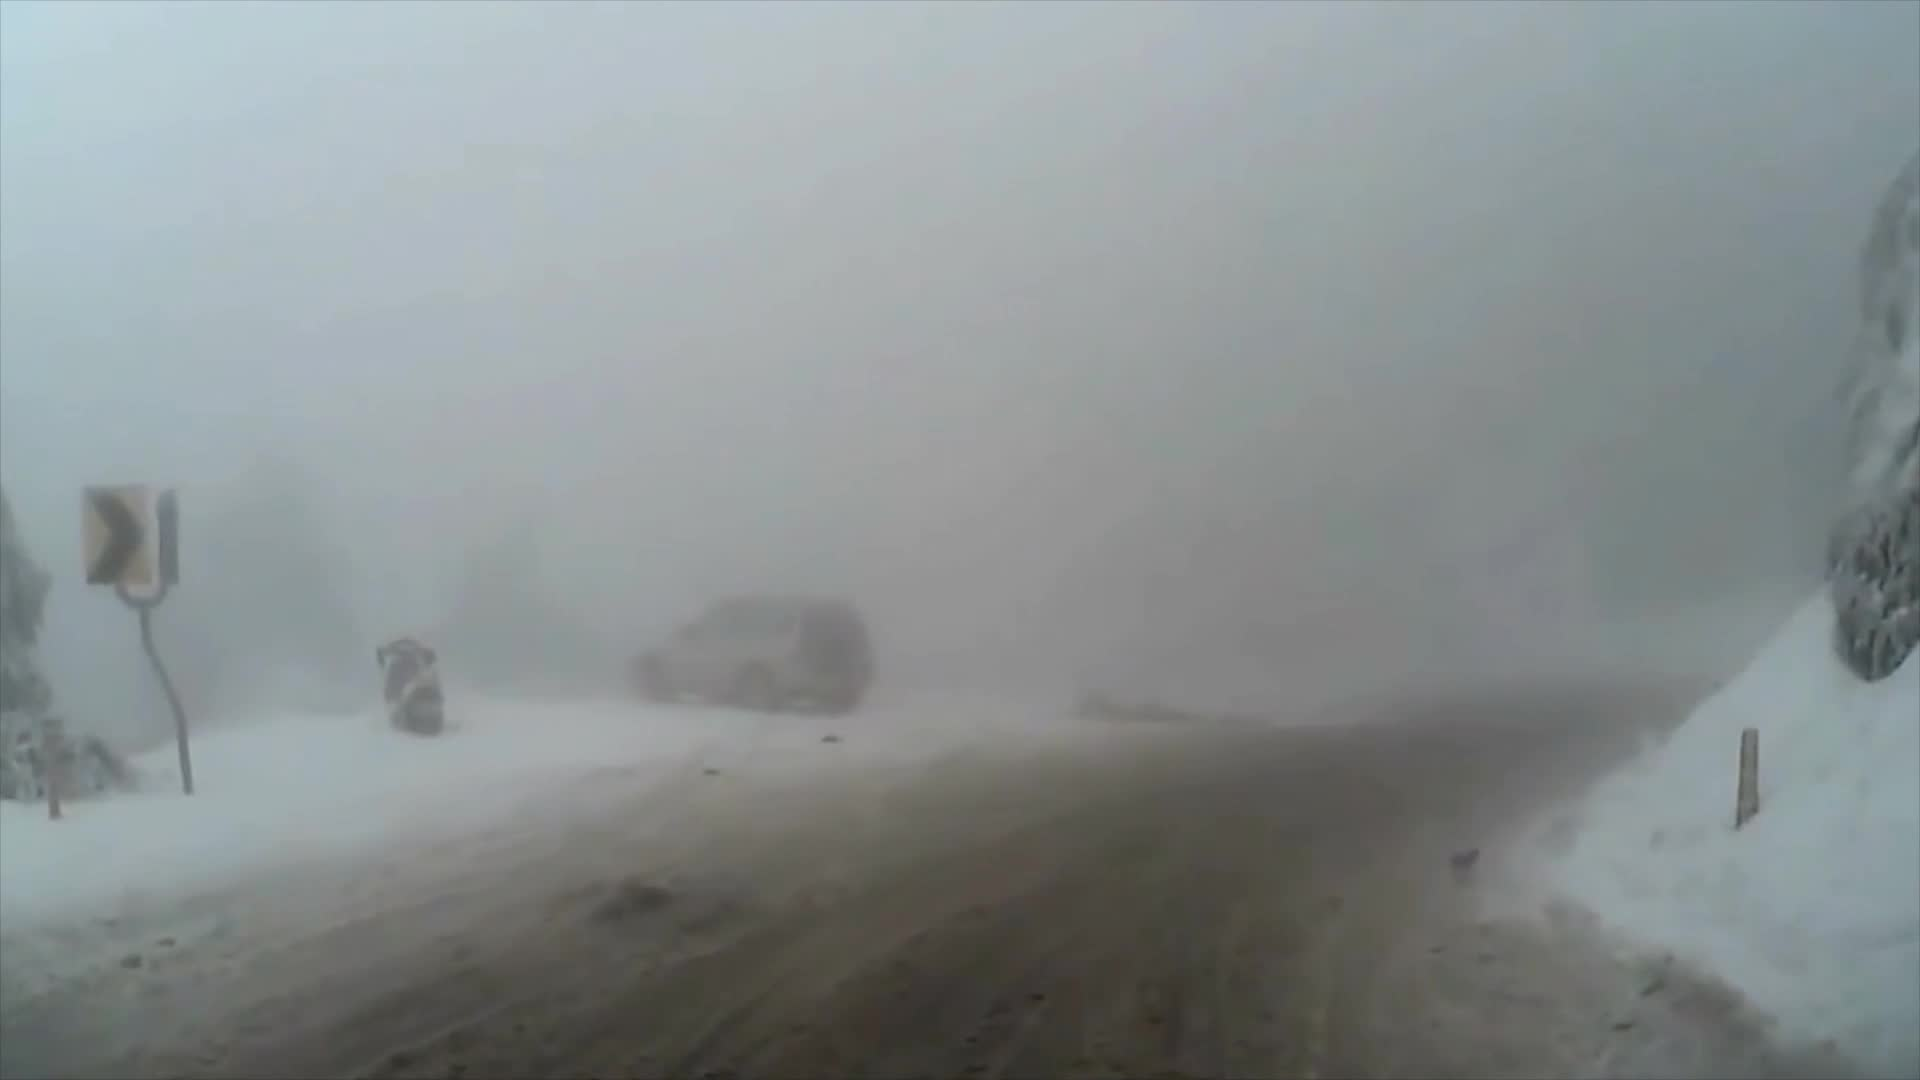vehicle: (630, 595, 872, 715)
